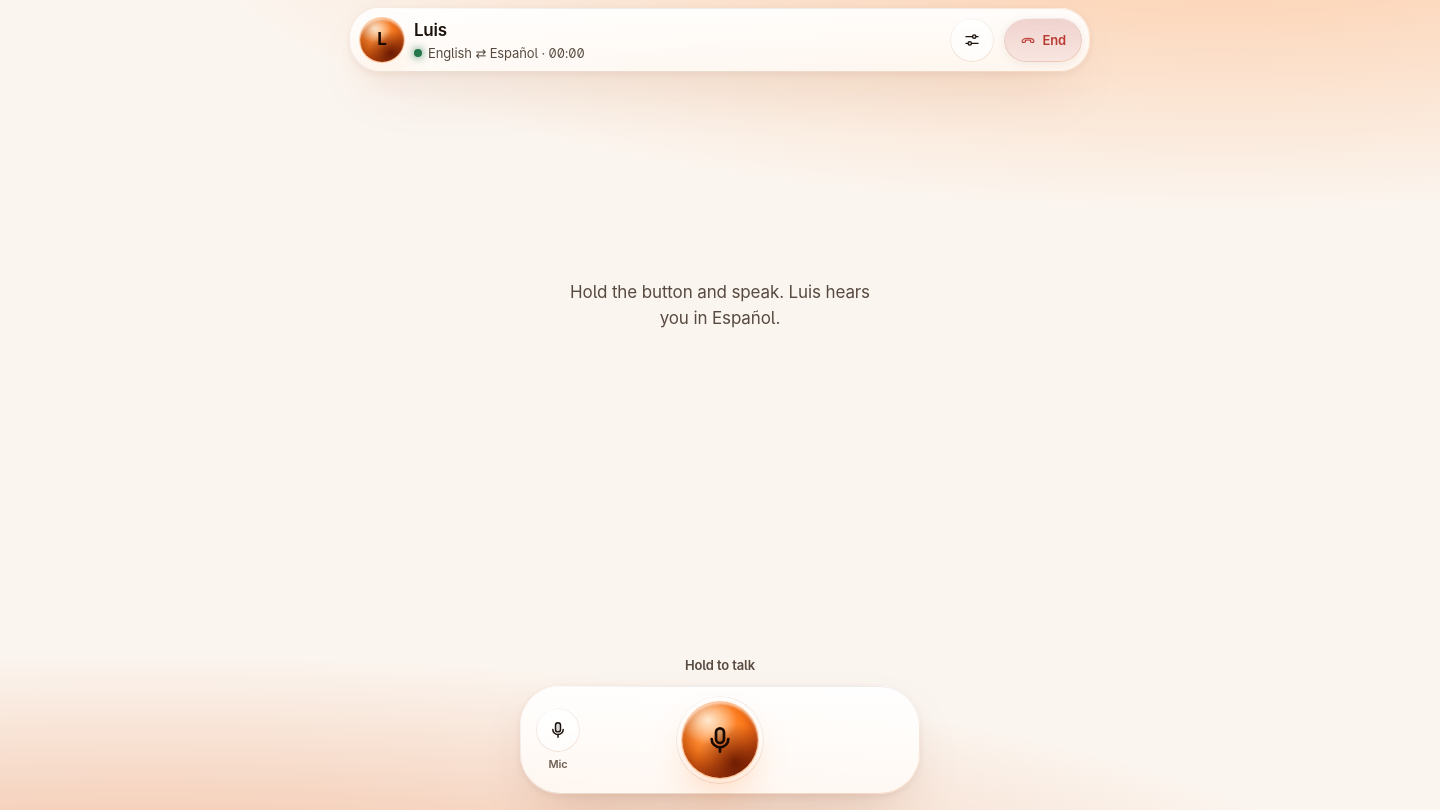
Phase 5 assistance UI › a suggestion is a dismissible note, not a popup
Step 1. Press the mouse on the button named "Push to talk" → x=720, y=740, box [676,696,764,784]
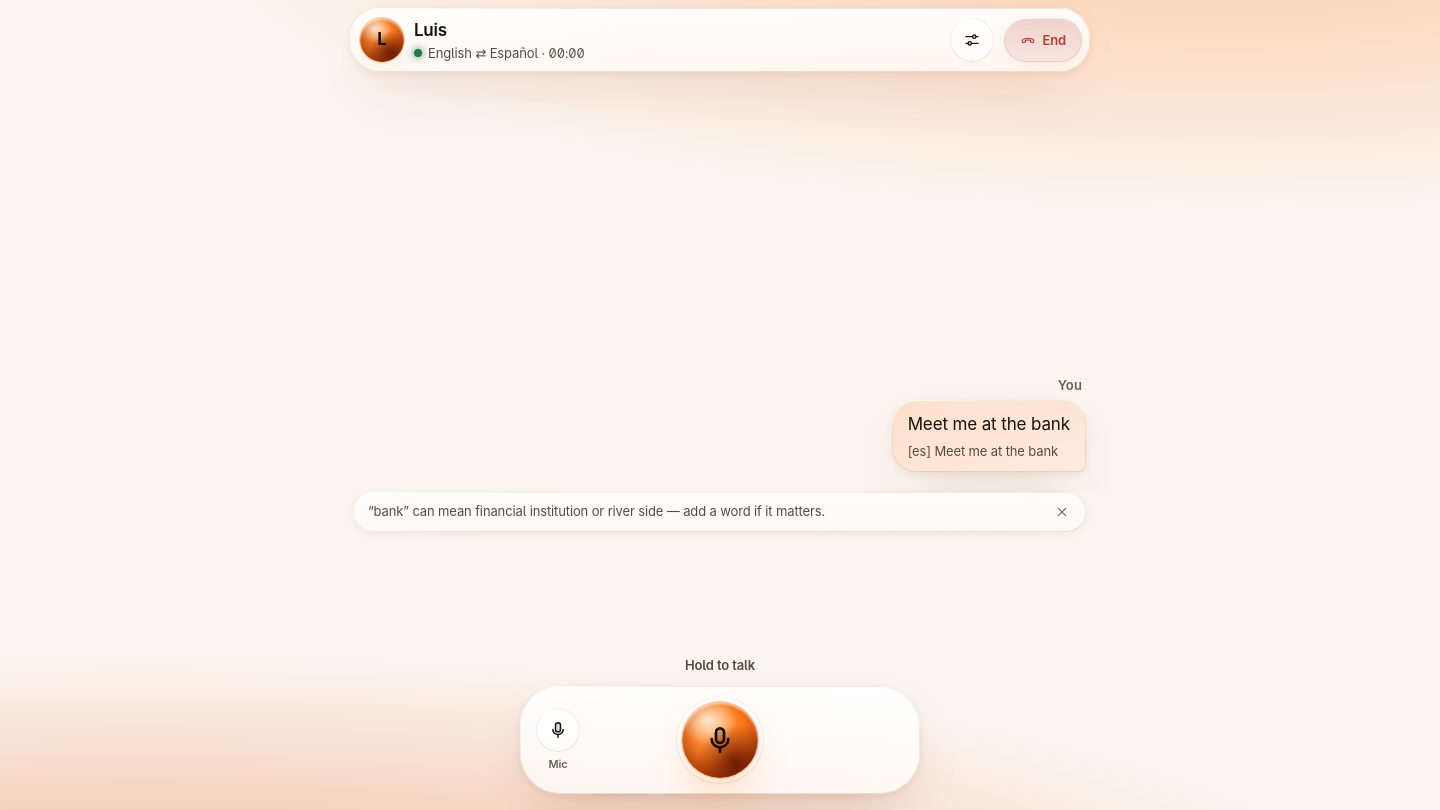
expect the element named "Suggestion" shows "“bank” can mean": met, box [368,503,825,519]
Step 2. Click the button named "Dismiss suggestion" → x=1062, y=512, box [1040,490,1084,534]
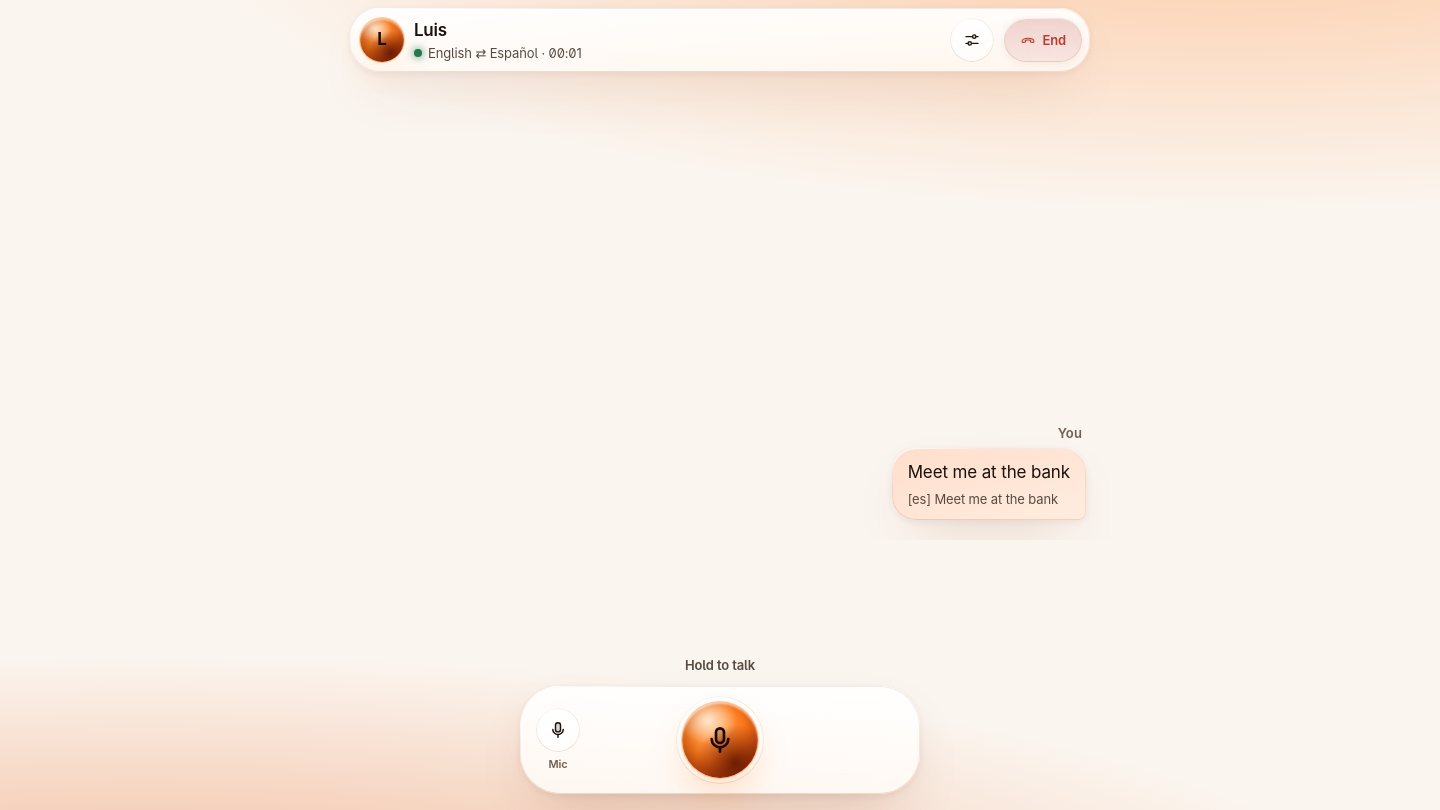
expect the button "Suggestion" is gone: met
